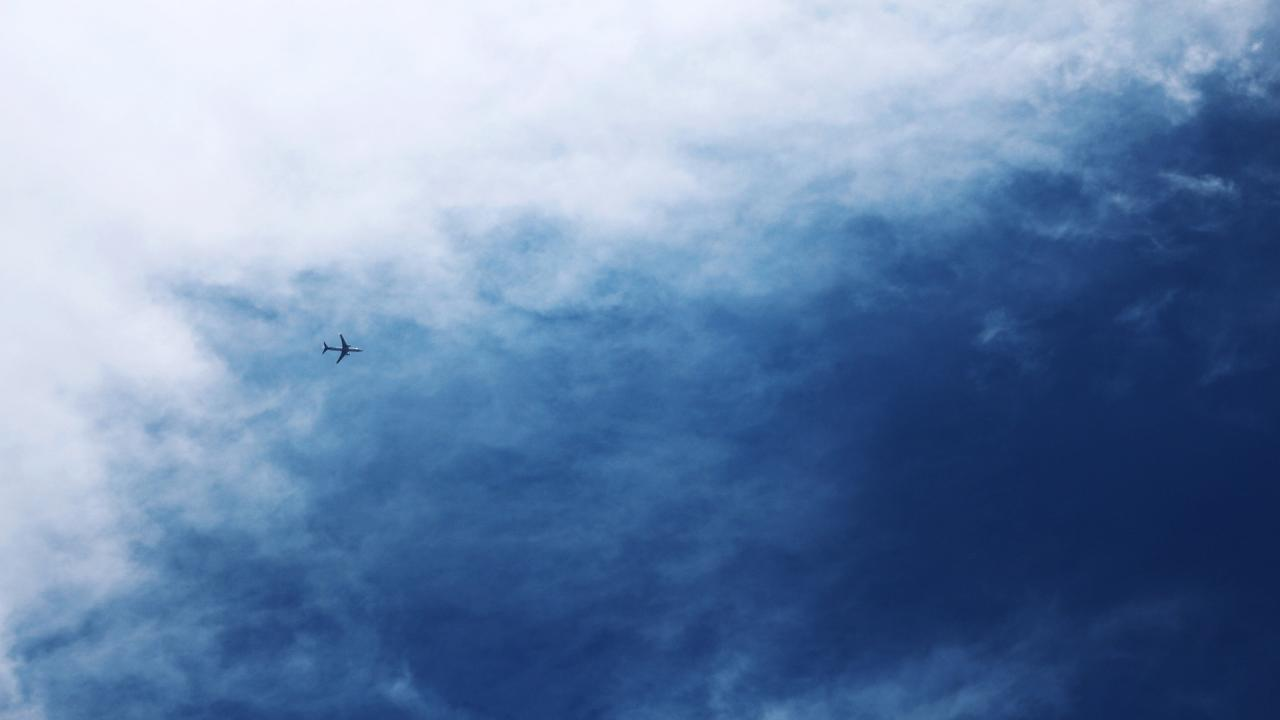Airplane: (316, 329, 369, 369)
